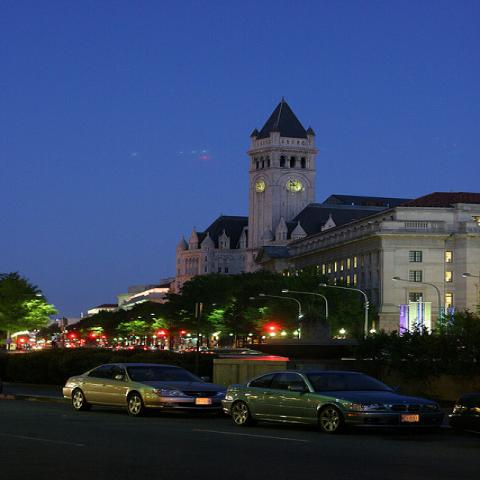car: (221, 370, 444, 434), (63, 363, 228, 416), (447, 391, 479, 427)
